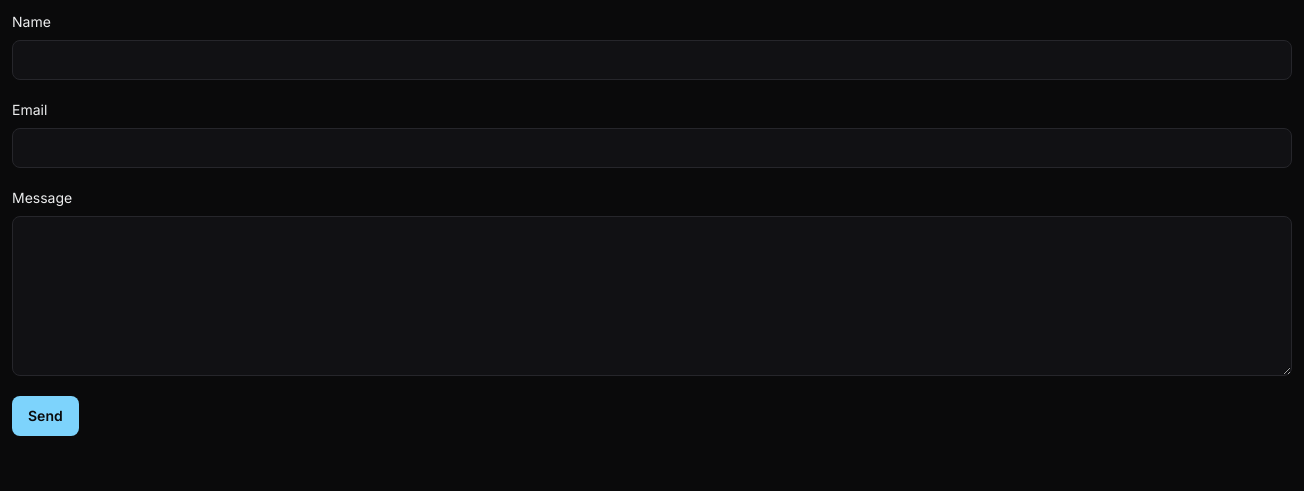
it: ContactForm › shows the stub success state when API returns stub:true
Type "Recruiter" into the field labelled "Name".
click(652, 60); type("Recruiter")  # box [12,40,1292,80]
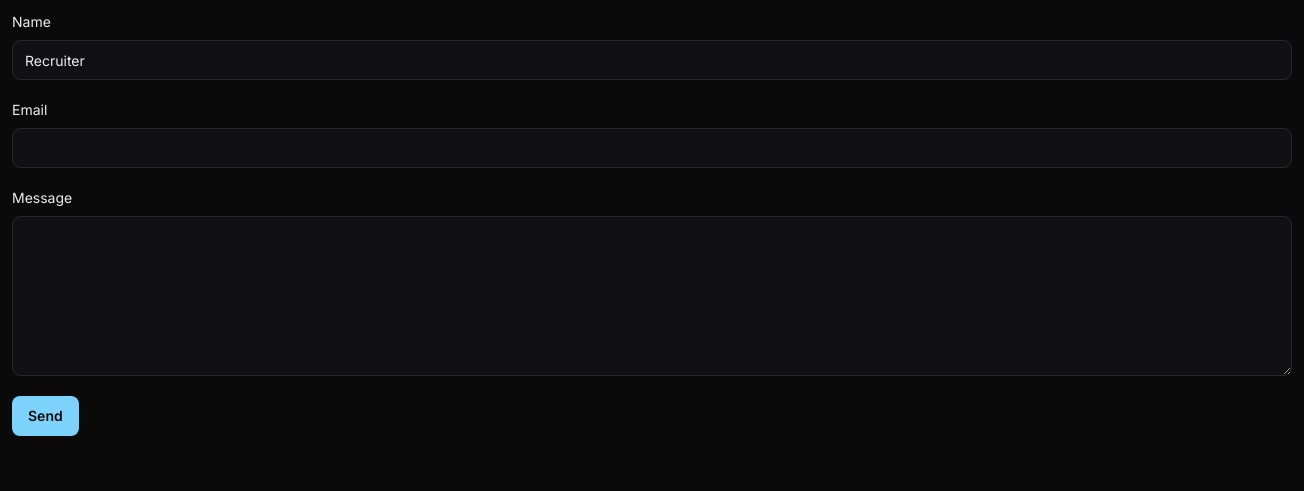
Type "r@example.com" into the field labelled "Email".
click(652, 148); type("r@example.com")  # box [12,128,1292,168]
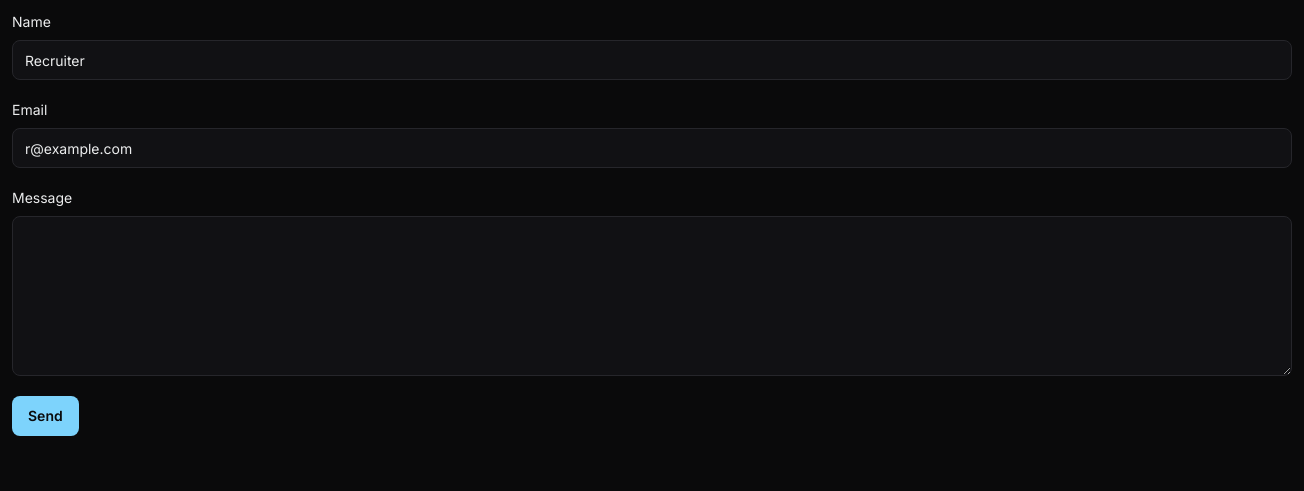
Type "Long enough message body for tests." into the text box labelled "Message".
click(652, 296); type("Long enough message body for tests.")  # box [12,216,1292,376]
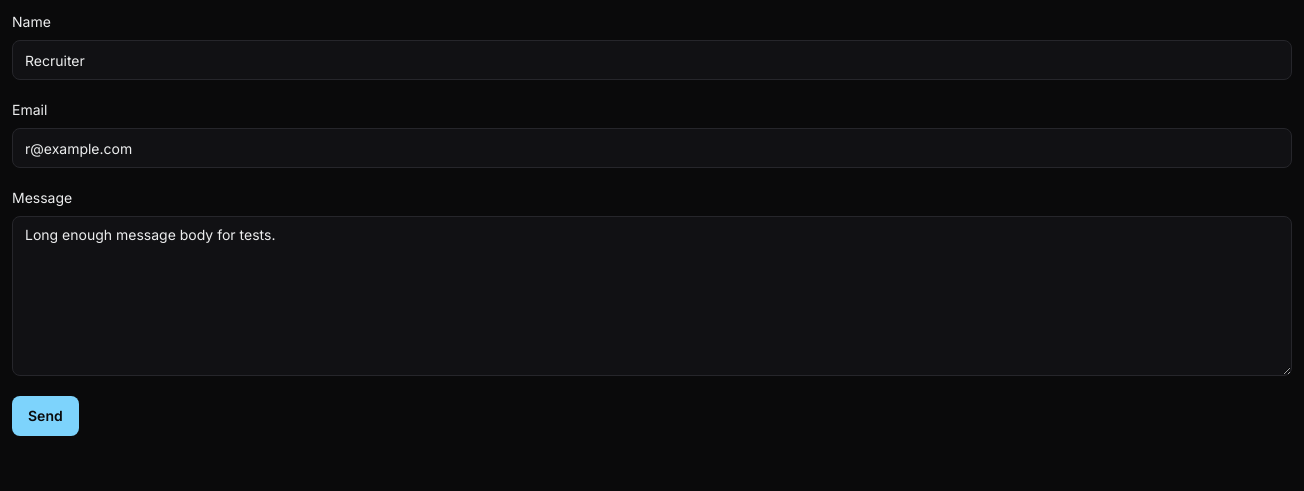
Click the button "Send".
click(45, 416)  # box [12,396,79,436]
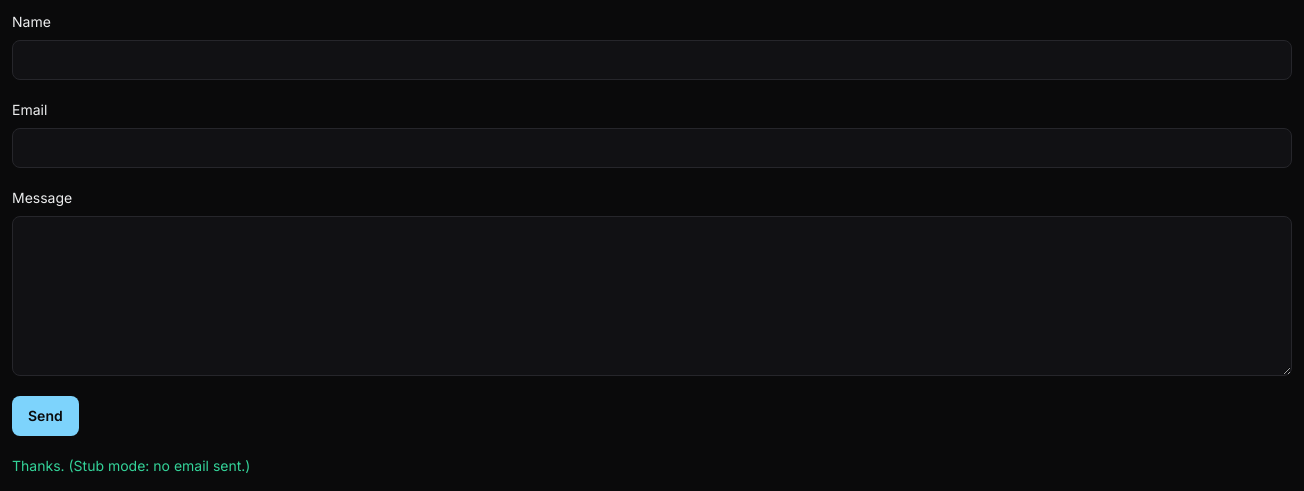
Expected: the text "Thanks. (Stub mode: no email sent.)" is shown, [12,457,250,474]
